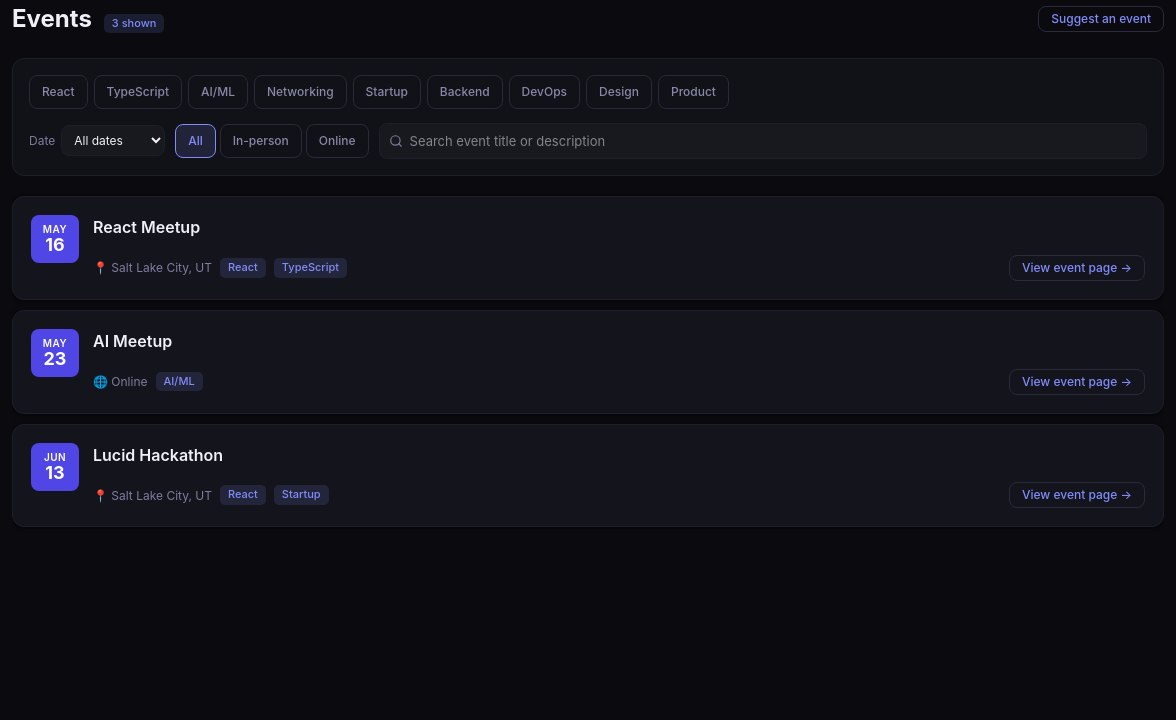
Test case: EventsPage › shows a filters-empty state with a Clear filters action when nothing matches
The image size is (1176, 720).
Type "zzzzz" into the field with placeholder "Search event title or description" at x=763, y=141, box [379,123,1147,159]
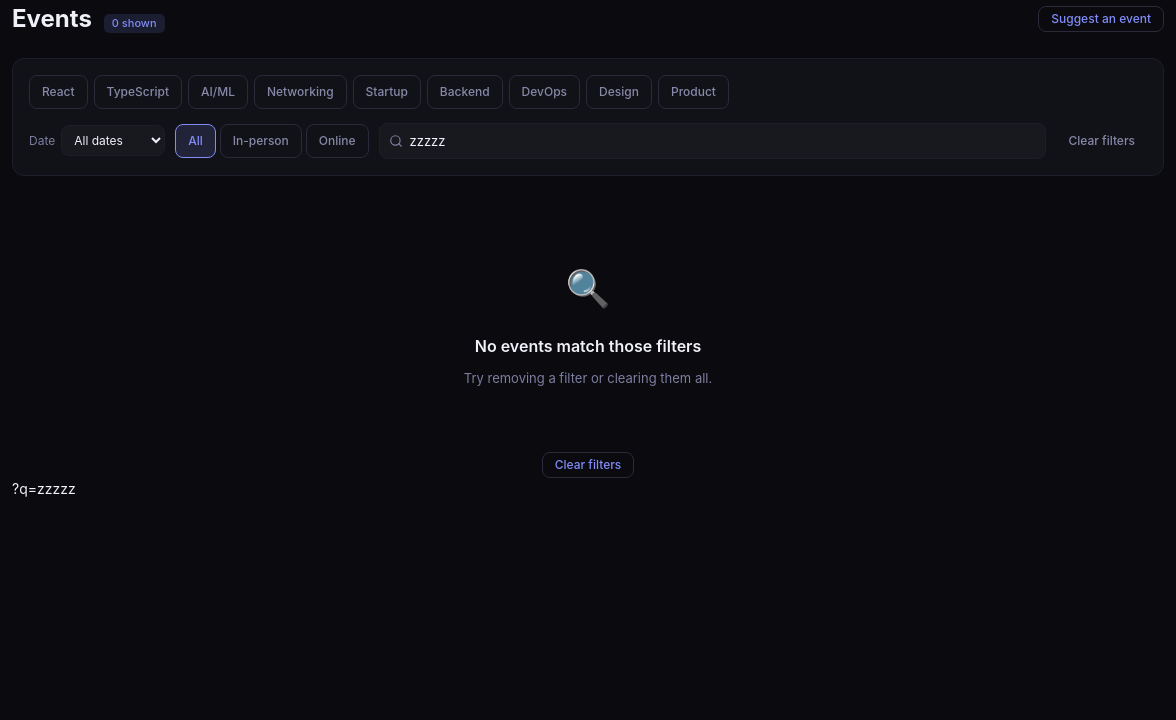
Check: the heading "No events match those filters" is shown, box [475,334,701,360]
Click the button "Clear filters" in the row of "Date" at x=1102, y=141, box [1056,129,1147,153]
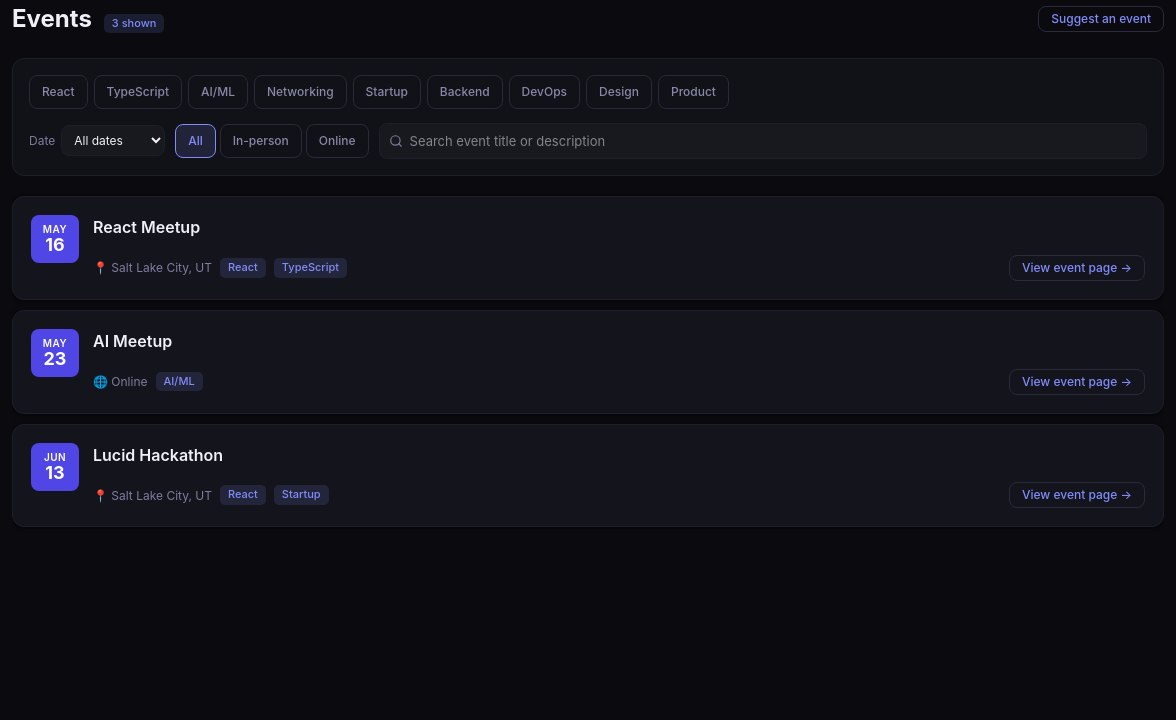
Check: the heading "React Meetup" is shown, box [93,217,200,237]
